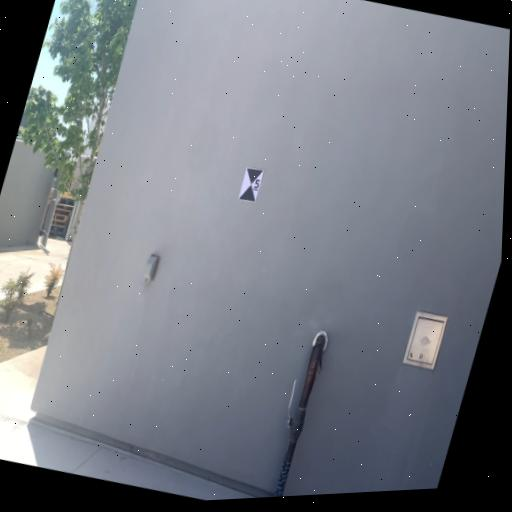target5: (238, 166, 265, 204)
